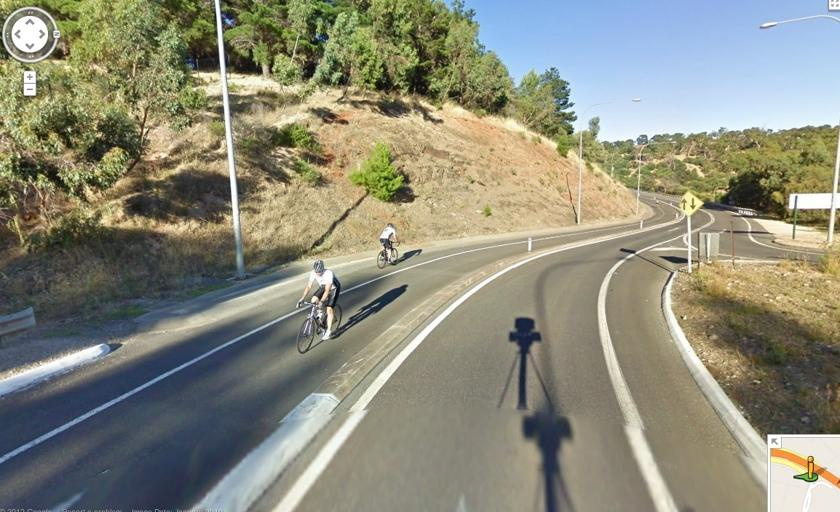non-vehicle: (295, 299, 343, 354), (375, 240, 401, 270)
